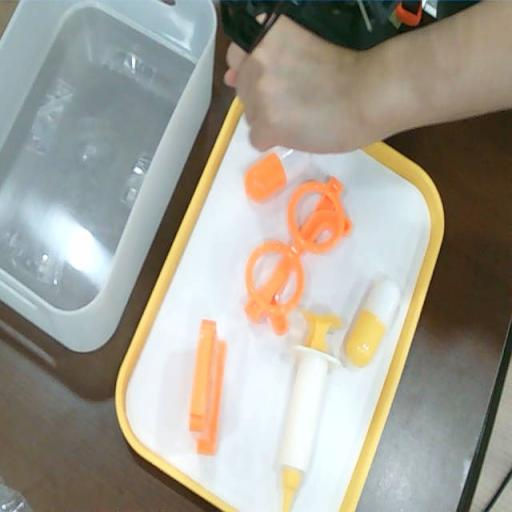hospital: (223, 43, 388, 156)
